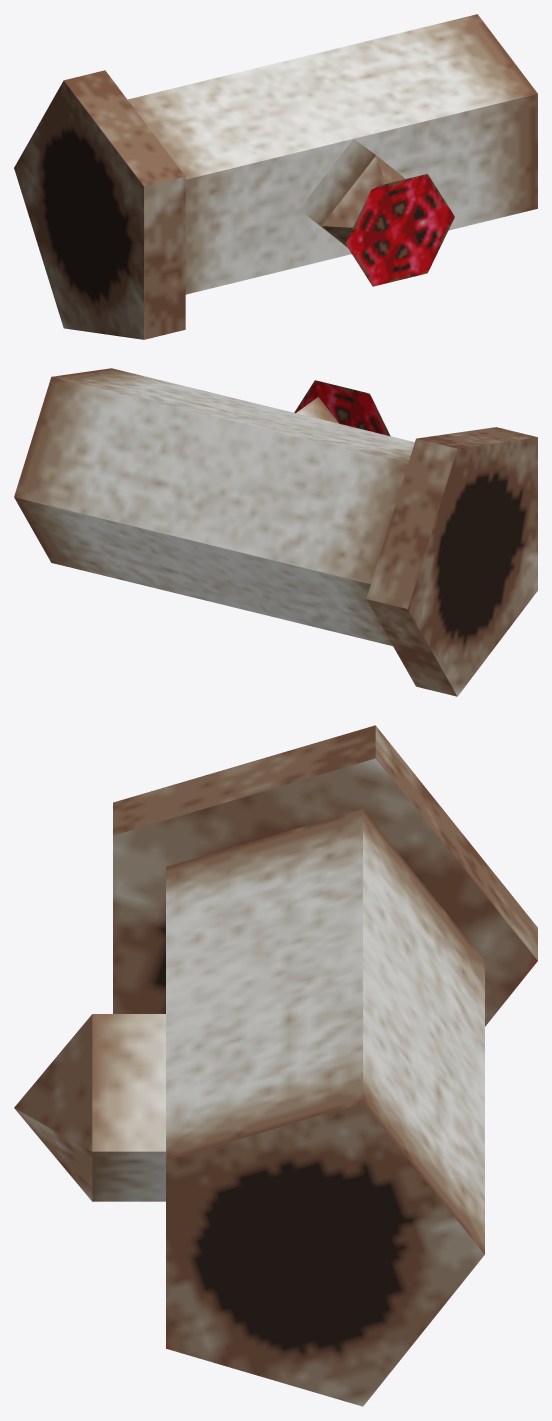
File: Pipe Valve.fbx
3 renders of one model, top to bottom at view 1: azimuth 30°, elevation 25°; view 2: azimuth 150°, elevation 25°; view 3: azimuth 270°, elevation 25°, orthographic. The views are drawn at different scales.
Visible parts, largest first — view 1: Valve Pipe, Valve Handle; view 2: Valve Pipe, Valve Handle; view 3: Valve Pipe.
Boxes of the visible parts, bbox=[...] form: Valve Pipe: bbox=[14, 14, 537, 339]; Valve Handle: bbox=[345, 174, 454, 286]; Valve Pipe: bbox=[14, 368, 537, 696]; Valve Handle: bbox=[294, 380, 390, 436]; Valve Pipe: bbox=[14, 725, 537, 1406].
Bounding box in the file's own units: 49.38 × 28.53 × 33.44.
